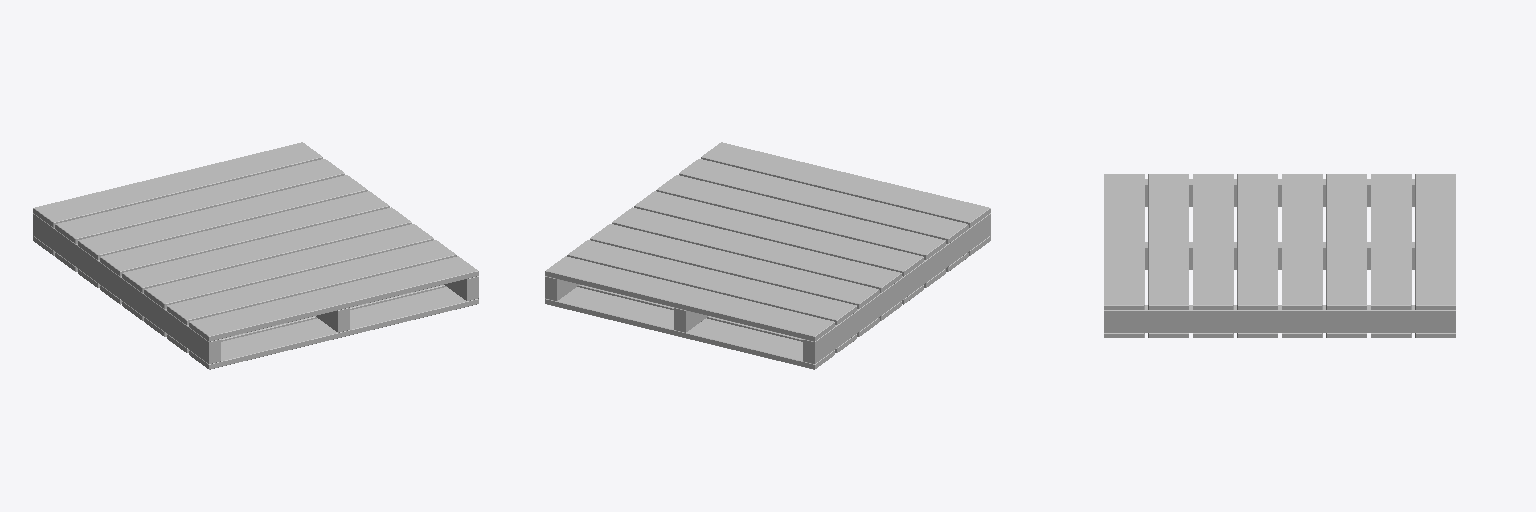
The model's file is pallet4.obj.
3 views of the same model, side by side, from view 1: azimuth 30°, elevation 25°; view 2: azimuth 150°, elevation 25°; view 3: azimuth 270°, elevation 25° (orthographic).
Parts seen in each view (by area): view 1: pallet4; view 2: pallet4; view 3: pallet4.
Boxes of the visible parts, <box> form: pallet4: <box>33,142,478,369</box>; pallet4: <box>545,142,990,369</box>; pallet4: <box>1104,174,1455,337</box>.
Bounding box in the file's own units: 0.7425 × 0.0879 × 0.8388.